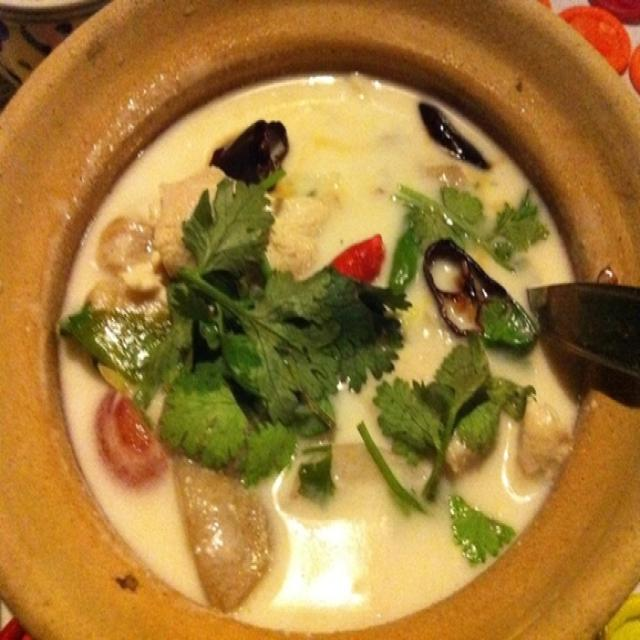汤锅炖物: (47, 28, 614, 631)
